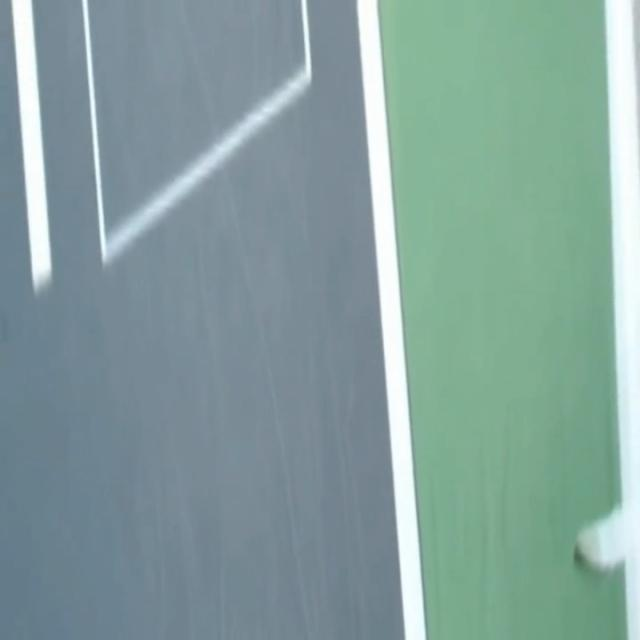center: (12, 0, 52, 292)
right: (357, 0, 425, 639)
